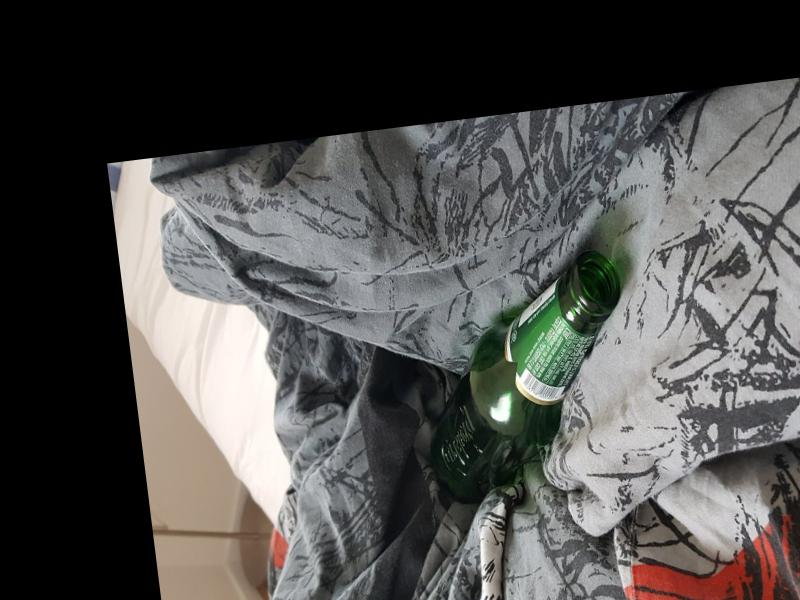Beer: (409, 250, 645, 509)
